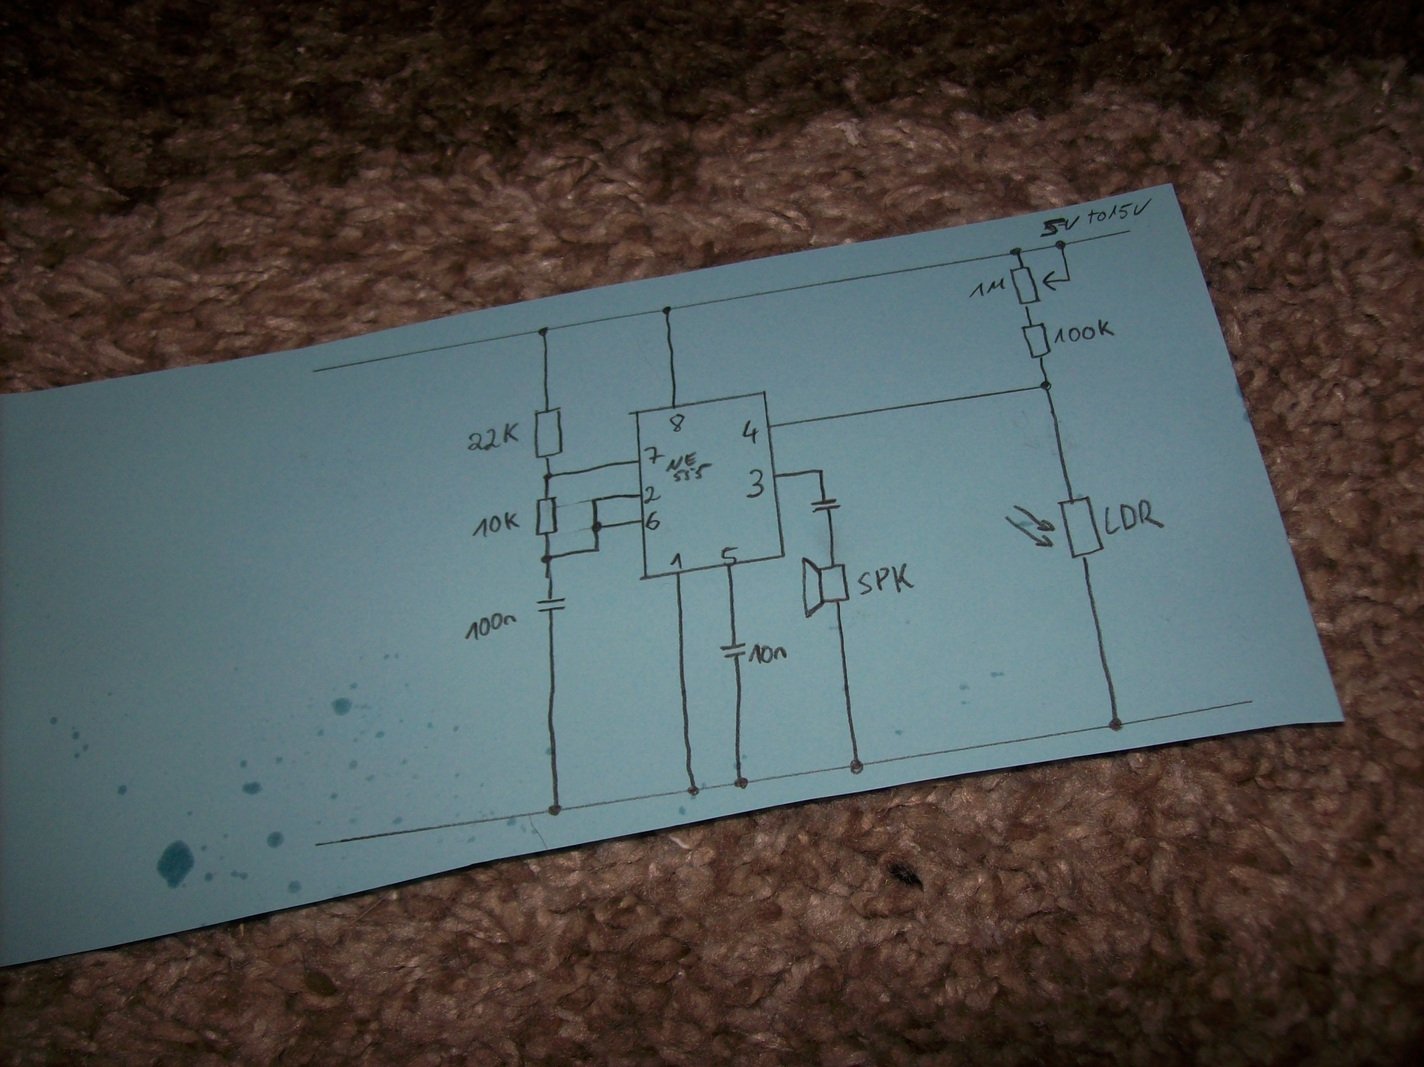capacitor.unpolarized: (534, 595, 568, 616), (810, 495, 843, 516), (718, 640, 748, 660)
integrated_cricuit.ne555: (629, 388, 788, 581)
junction: (847, 757, 868, 777), (1106, 716, 1127, 734), (730, 774, 751, 791), (546, 802, 564, 818), (538, 551, 556, 566), (1037, 378, 1055, 392), (685, 785, 702, 798), (1008, 244, 1025, 258), (1053, 239, 1068, 252), (589, 520, 604, 533), (541, 470, 555, 483), (536, 326, 551, 337), (660, 304, 673, 316), (815, 465, 828, 477), (588, 494, 601, 505), (592, 544, 602, 556)
resistor: (532, 403, 565, 460), (1020, 321, 1052, 361), (533, 494, 560, 538)
resistor.adjustable: (1008, 262, 1071, 309)
resistor.photo: (1004, 493, 1106, 560)
speaker: (799, 554, 853, 621)
terminal: (1244, 696, 1257, 708), (1121, 226, 1136, 236), (310, 839, 325, 850), (308, 367, 322, 377)
text: (1039, 197, 1153, 238), (1102, 497, 1166, 536), (856, 562, 916, 596), (464, 610, 519, 642), (1053, 318, 1115, 346), (467, 421, 521, 453), (666, 451, 713, 483), (471, 510, 522, 539), (746, 643, 788, 667), (968, 275, 1006, 299), (745, 467, 766, 499), (739, 419, 760, 446), (720, 545, 739, 568), (643, 484, 663, 505), (643, 445, 664, 465), (645, 509, 661, 531), (669, 412, 686, 433), (669, 551, 685, 570)
